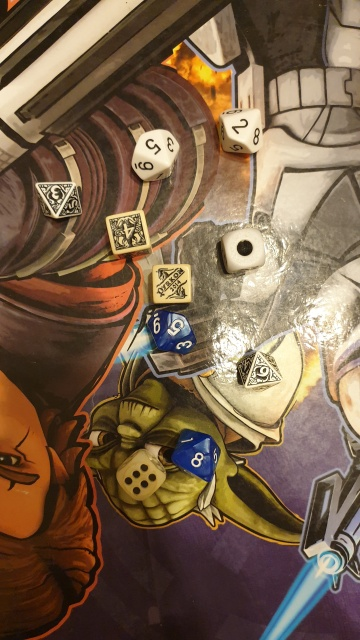d10-2: (217, 102, 269, 162)
d10-5: (129, 125, 181, 184), (144, 312, 200, 358)
d10-8: (176, 434, 216, 483)
d6-1: (219, 228, 266, 272)
d6-6: (112, 450, 167, 501)
d6p-1: (150, 263, 194, 305)
d6p-4: (104, 210, 151, 258)
d8p-3: (38, 179, 84, 223)
d8p-6: (238, 348, 282, 396)
